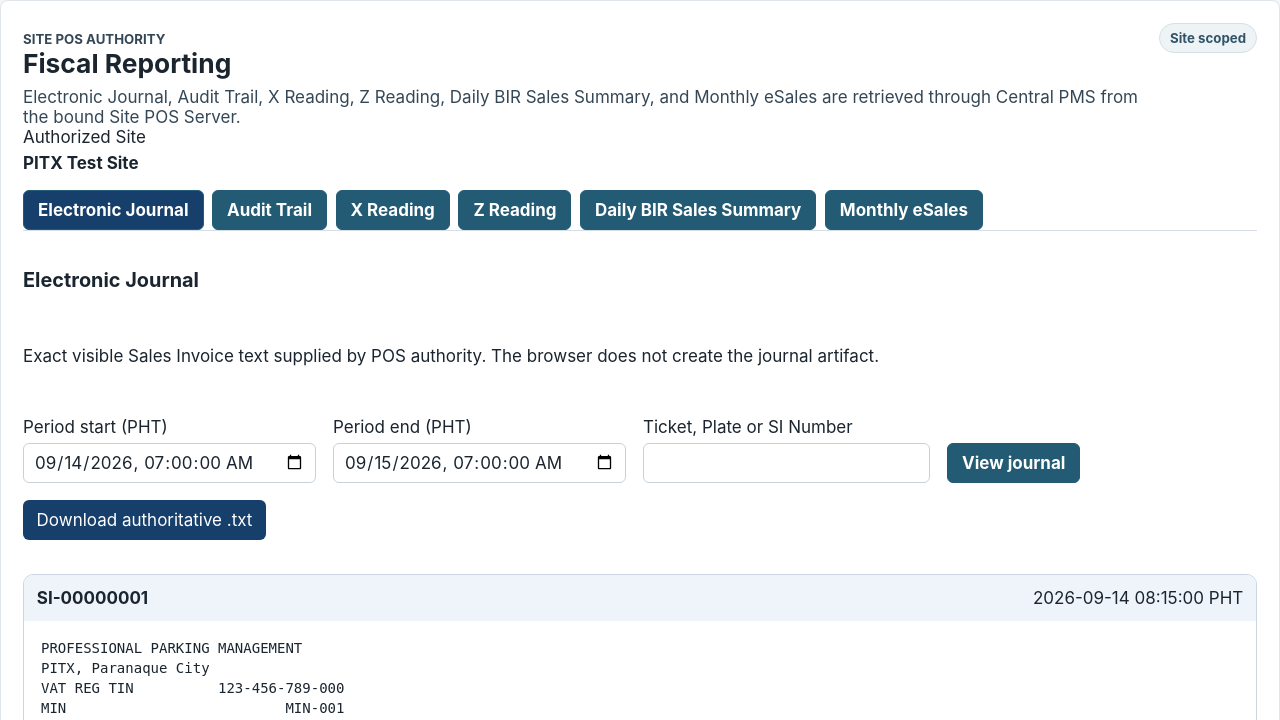
Scenario: Operator Console fiscal reporting › clears the previous Electronic Journal result when a new search fails
Expected: the text "SI-00000001" is shown, [37,588,148,608]
Type "SI-00000049" into the field named "Search Electronic Journal" at (786, 463), box [643,443,930,483]
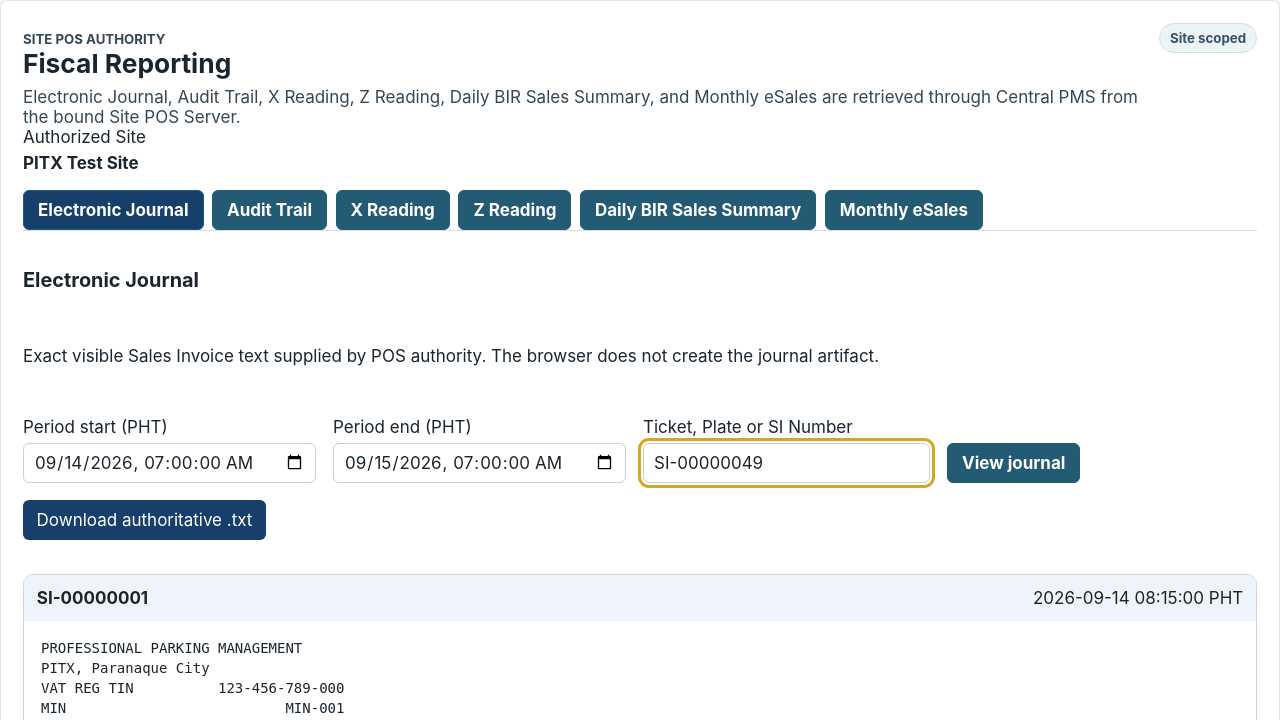
Click the button "View journal" at (1014, 463), box [947,443,1080,483]
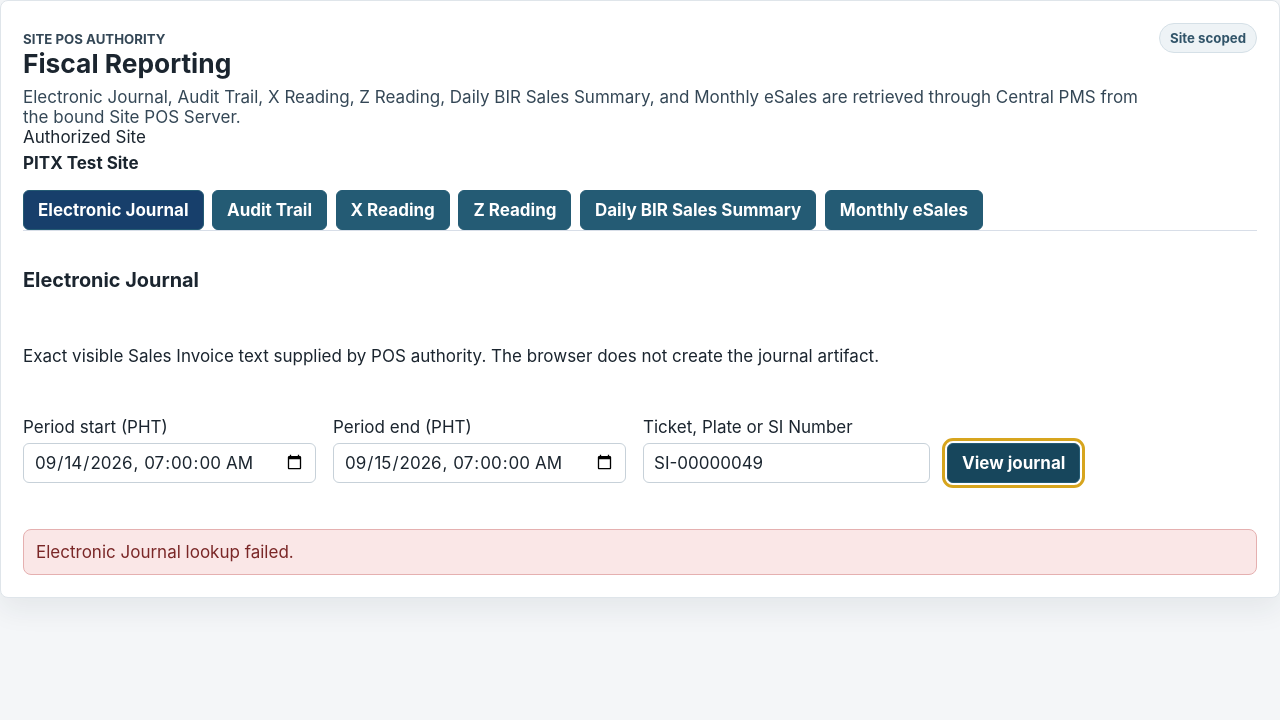
Now the message reads "Electronic Journal lookup failed.", box [36,542,294,562]
Now the text "SI-00000001" is gone
Now the link "Download authoritative .txt" is gone
